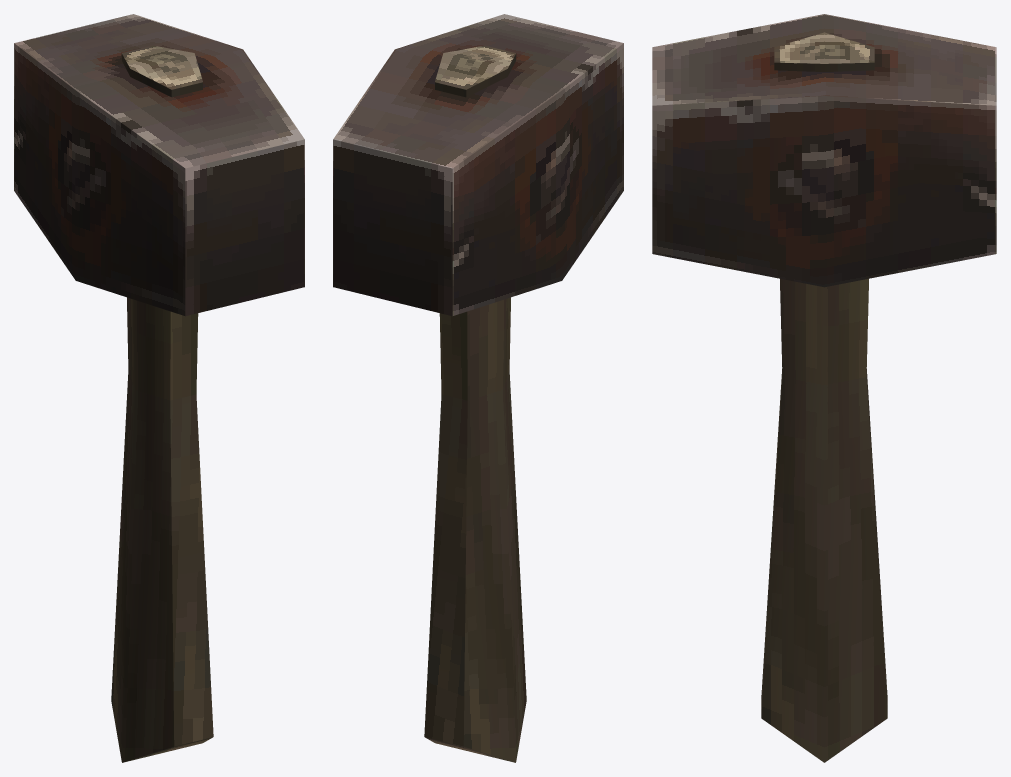
File: hammer_dwarf01_0344d193.glb
The picture shows the model from 3 angles, left to right: view 1: azimuth 30°, elevation 25°; view 2: azimuth 150°, elevation 25°; view 3: azimuth 270°, elevation 25°; orthographic projection.
Bounding box in the file's own units: 0.2166 × 0.8561 × 0.384.
1 material, 1 textured.
